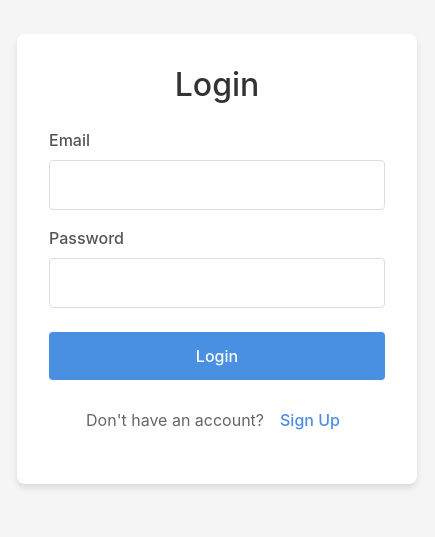
Test case: Login Component › displays error message when login fails
Note: Fill in the form
Type "test@example.com" into the field labelled "Email". click: (217, 185)
box: [49,160,385,210]
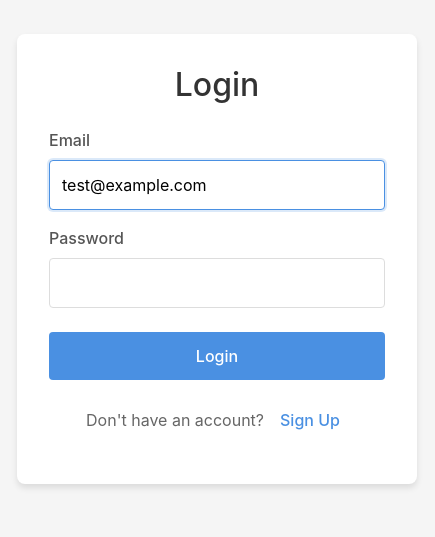
Type "wrongpassword" into the password field labelled "Password". click: (217, 283)
box: [49,258,385,308]
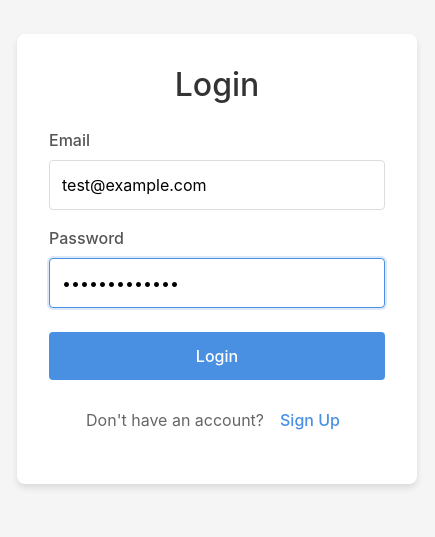
Note: Submit the form
Click the button "Login". click: click(217, 356)
box: [49,332,385,380]
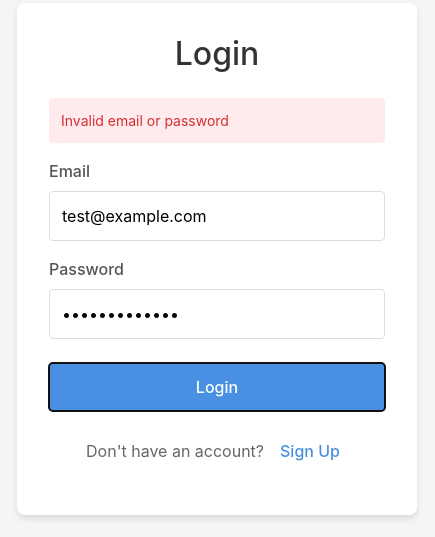
Check: the text "Invalid email or password" is shown, box [49,98,385,143]
